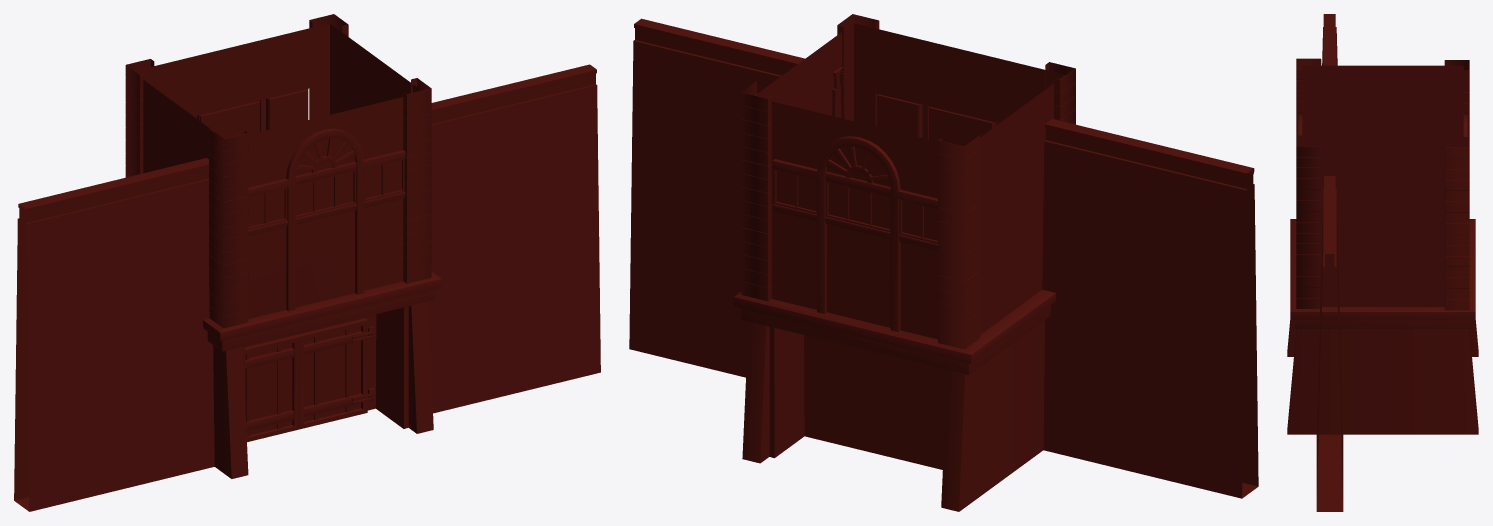
Rendered from zoneGate 1.fbx.
3 renders of one model, left to right at view 1: azimuth 30°, elevation 25°; view 2: azimuth 150°, elevation 25°; view 3: azimuth 270°, elevation 25°, orthographic. The views are drawn at different scales.
Visible parts, largest first — view 1: Box008; view 2: Box008; view 3: Box008.
Boxes of the visible parts, x1,y1,x2,y2 form: Box008: (14,14,600,511); Box008: (629,14,1258,511); Box008: (1287,14,1478,511).
Bounding box in the file's own units: 3200 × 1803 × 1077.
